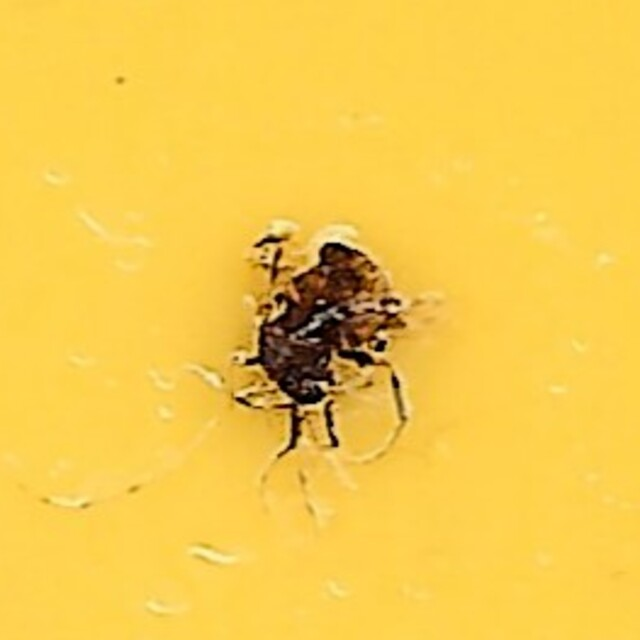Nematocera: (243, 227, 397, 413)
